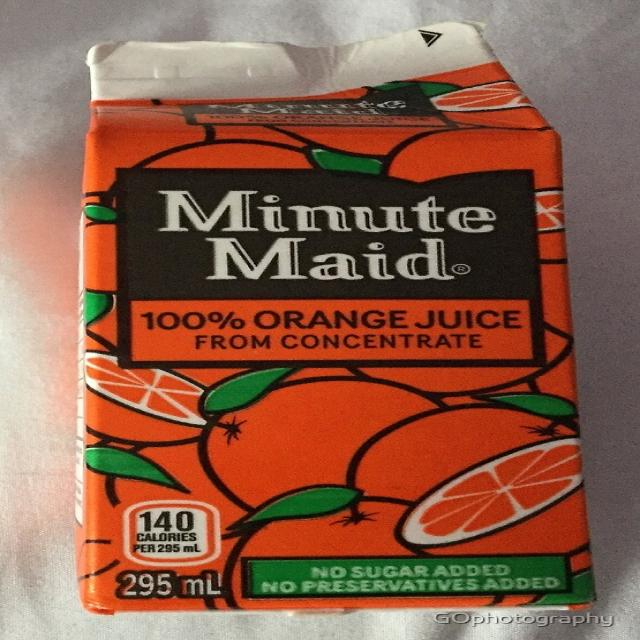cardboard: (71, 12, 603, 612)
